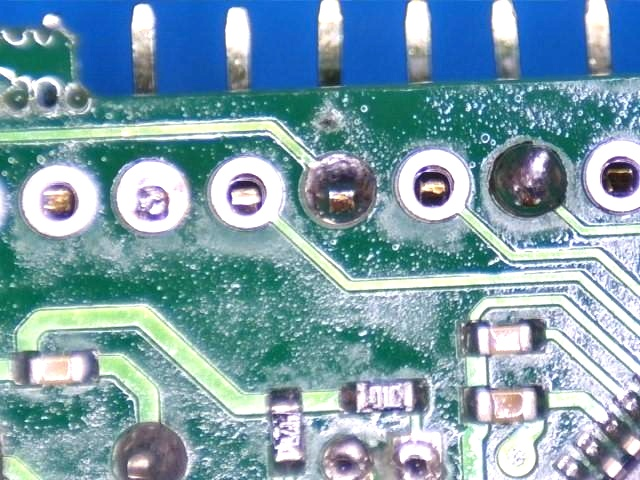pcb_defect: (490, 141, 566, 216), (117, 161, 186, 232)
